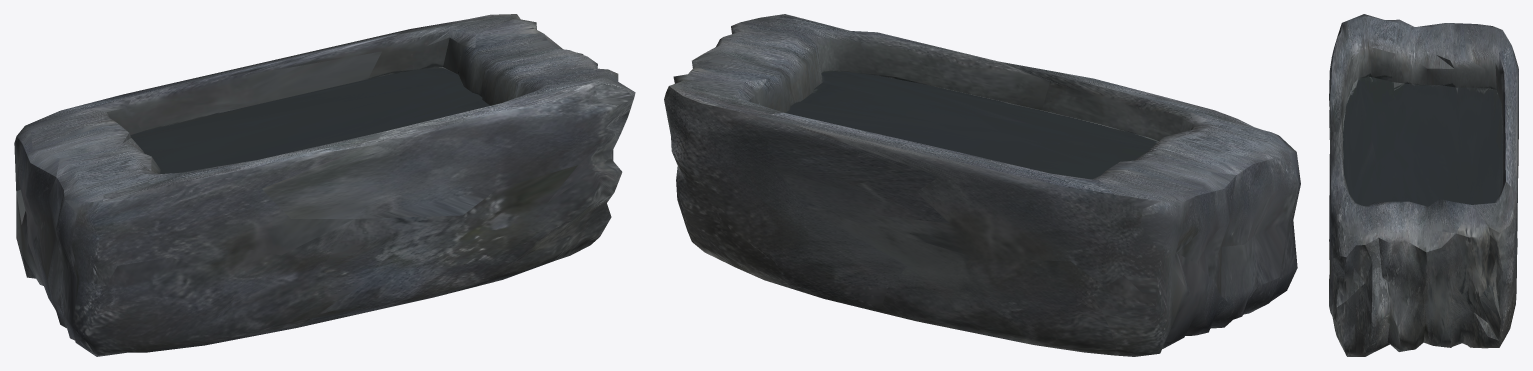
The model's file is Trough.glb.
The picture shows the model from 3 angles, left to right: view 1: azimuth 30°, elevation 25°; view 2: azimuth 150°, elevation 25°; view 3: azimuth 270°, elevation 25°; orthographic projection. The views are drawn at different scales.
Visible parts, largest first — view 1: Trough; view 2: Trough; view 3: Trough.
Part boxes in pixels (x1=…): Trough: x1=14, y1=14, x2=635, y2=356; Trough: x1=664, y1=14, x2=1300, y2=356; Trough: x1=1329, y1=14, x2=1518, y2=356.
Size of the model in its own units: 2 by 0.6 by 0.7.
1 material, 1 textured.
